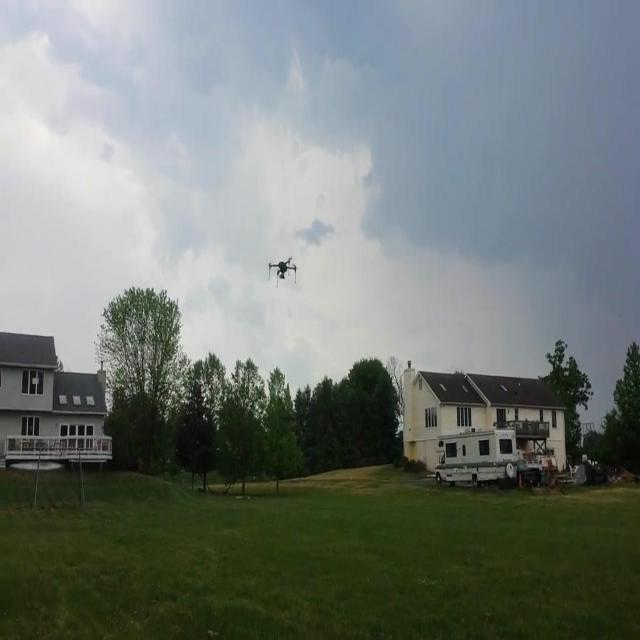UAV: (268, 256, 296, 288)
